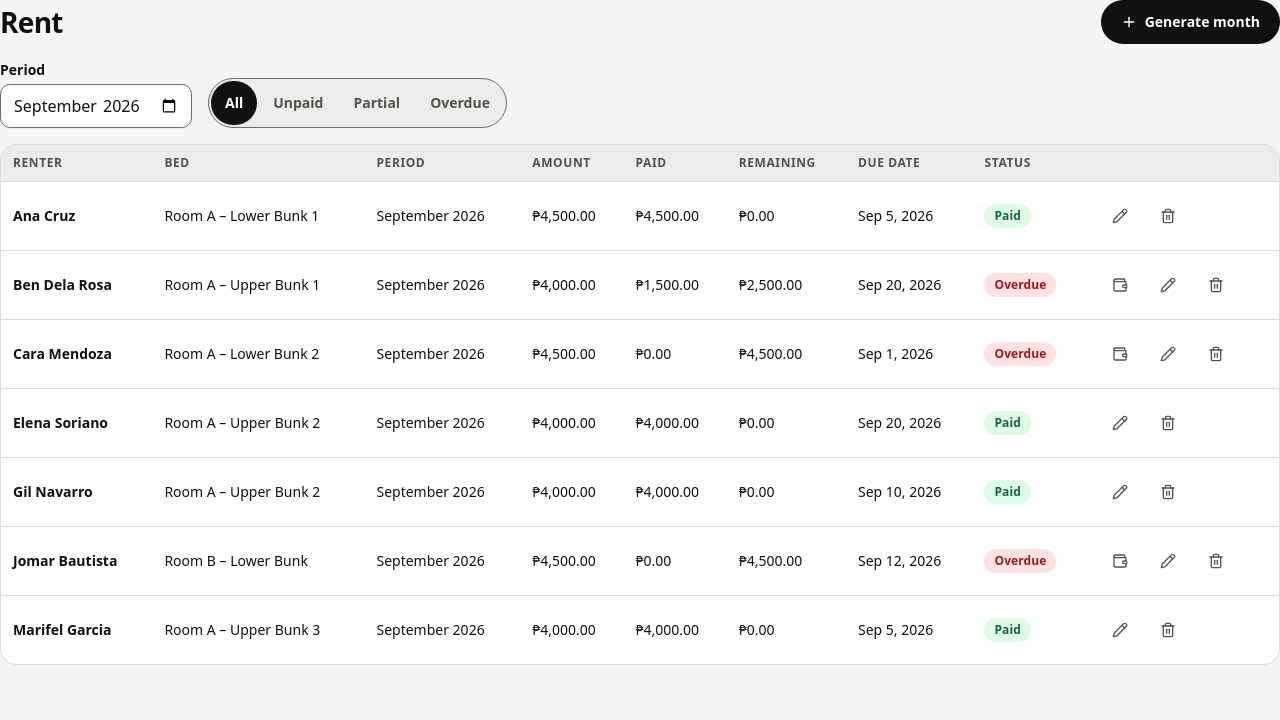
Test: AdminRentPage (F16, R35, R36, R55, SC-32, SC-33, SC-35, SC-56, SC-57) › blocks an amount below what was paid (AMOUNT_BELOW_PAID)
This screenshot has width=1280, height=720.
Expected: the text "Ana Cruz" is shown, [1,182,152,250]
Click the button named "Edit" in the row of "Ben Dela Rosa": (1168, 285) [1146,263,1190,307]
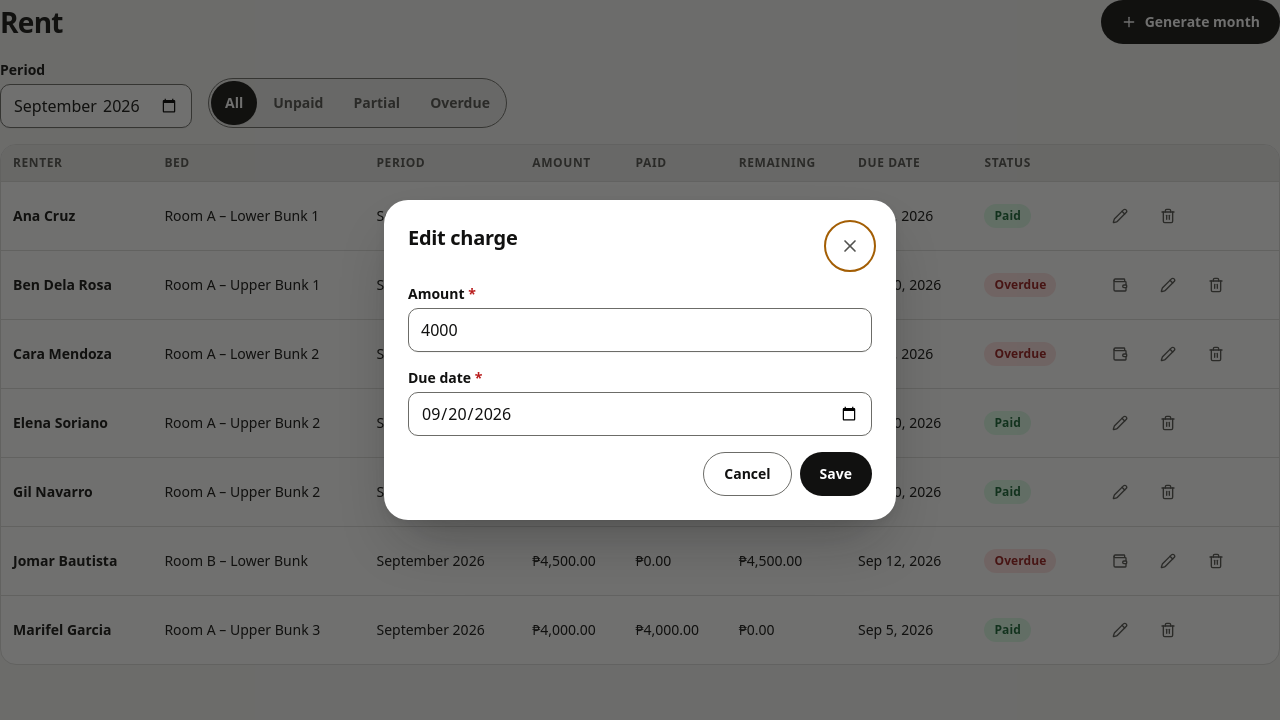
Replace the text in the field labelled "Amount *" with "1000": (640, 330) [408,308,872,352]
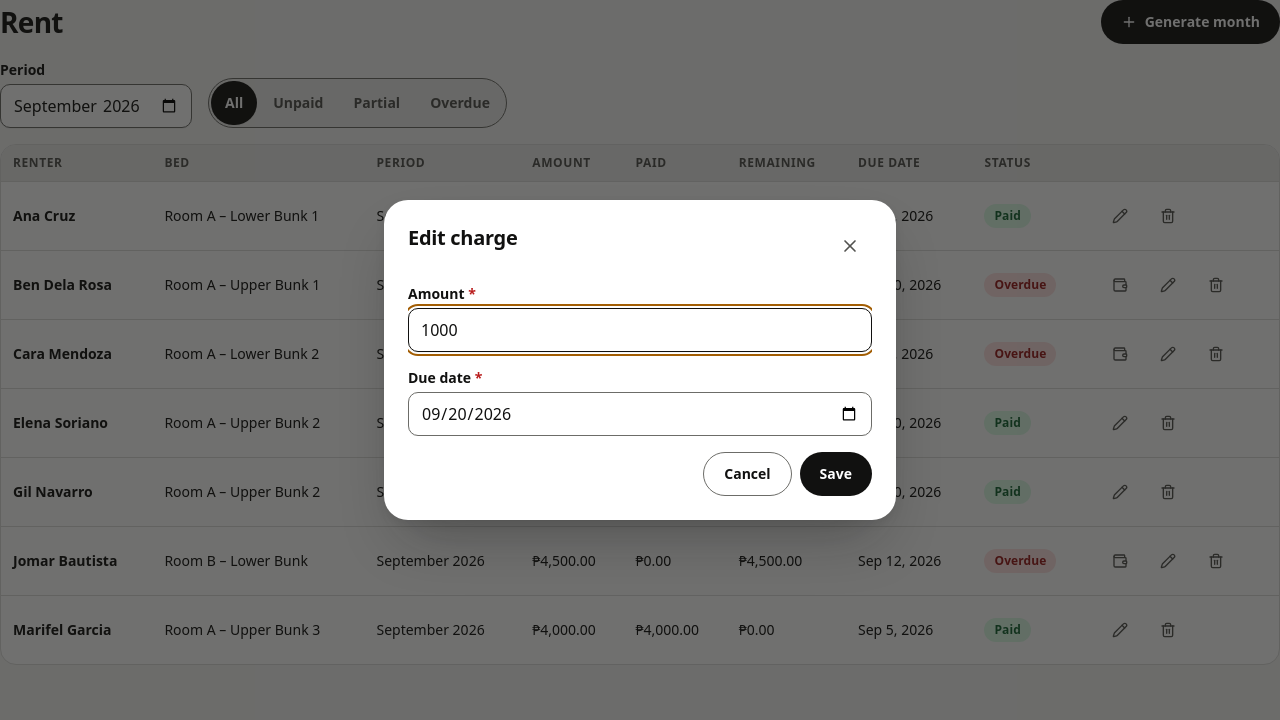
Click the button "Save": (836, 474) [800,452,872,496]
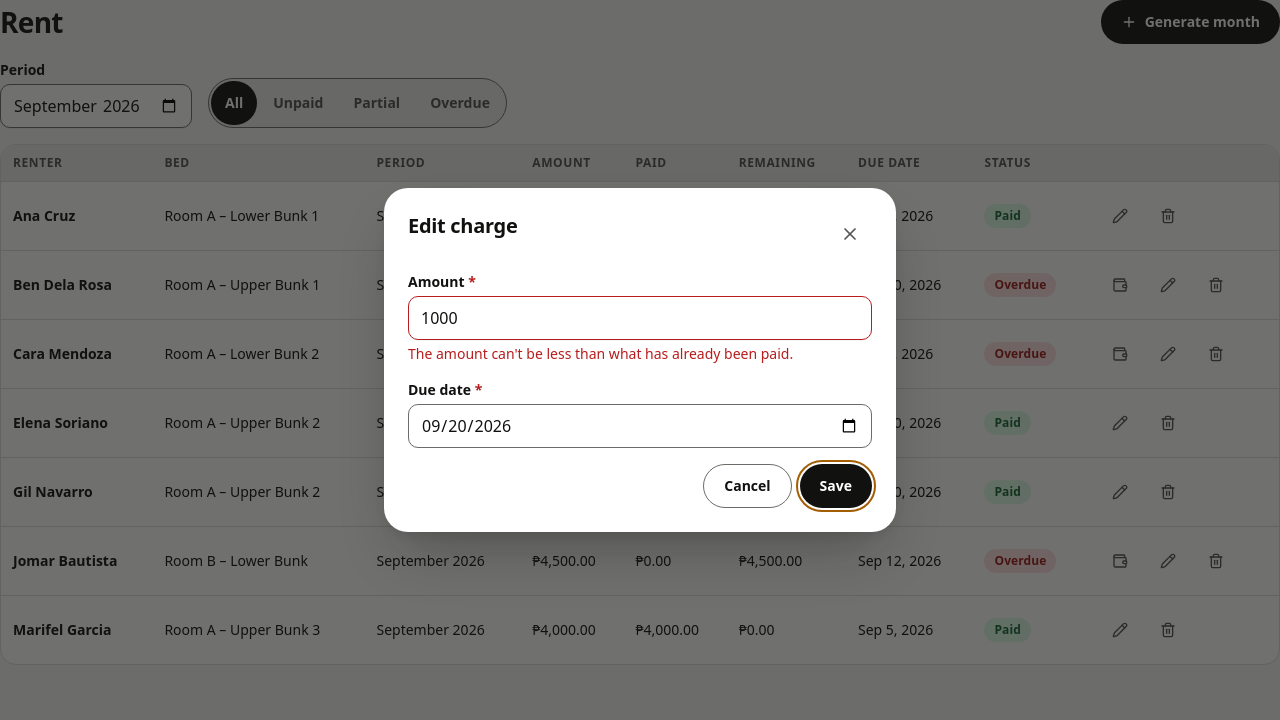
Expected: the text "The amount can't be less than what has already been paid." is shown, [408,344,793,363]
